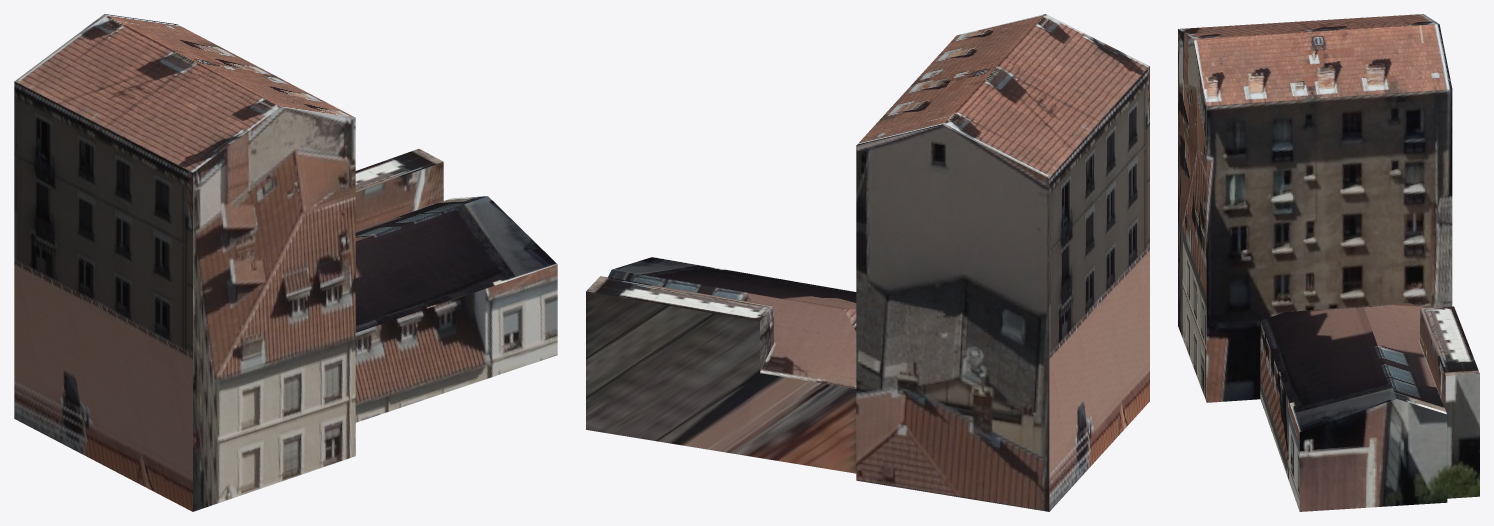
The picture shows the model from 3 angles, left to right: view 1: azimuth 30°, elevation 25°; view 2: azimuth 150°, elevation 25°; view 3: azimuth 270°, elevation 25°; orthographic projection. The views are drawn at different scales.
Parts seen in each view (by area): view 1: Z_UP; view 2: Z_UP; view 3: Z_UP.
Part boxes in pixels (<box>): Z_UP: <box>14,14,557,511</box>; Z_UP: <box>586,14,1149,511</box>; Z_UP: <box>1178,14,1479,511</box>.
Bounding box in the file's own units: 28.25 × 21.41 × 17.83.
Materials: 2 (1 with a texture image).
